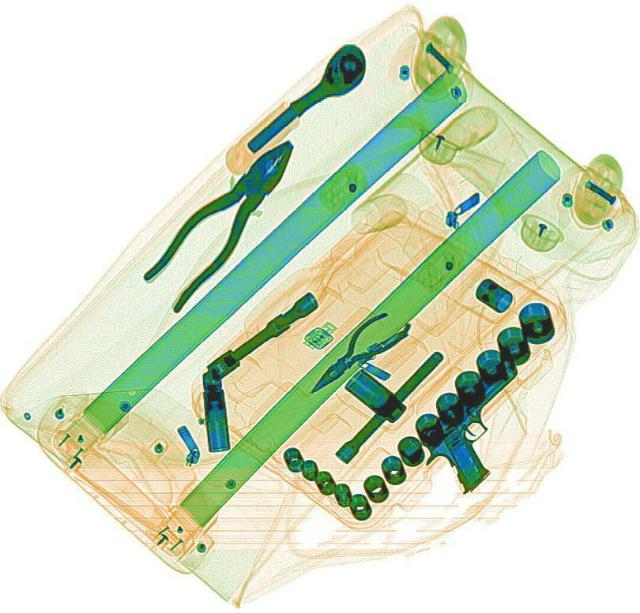Gun: (399, 350, 561, 496)
Pliers: (128, 124, 318, 315), (292, 306, 408, 403)
